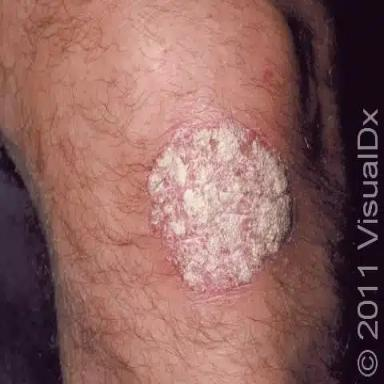Psoriasis: (147, 107, 292, 291)
